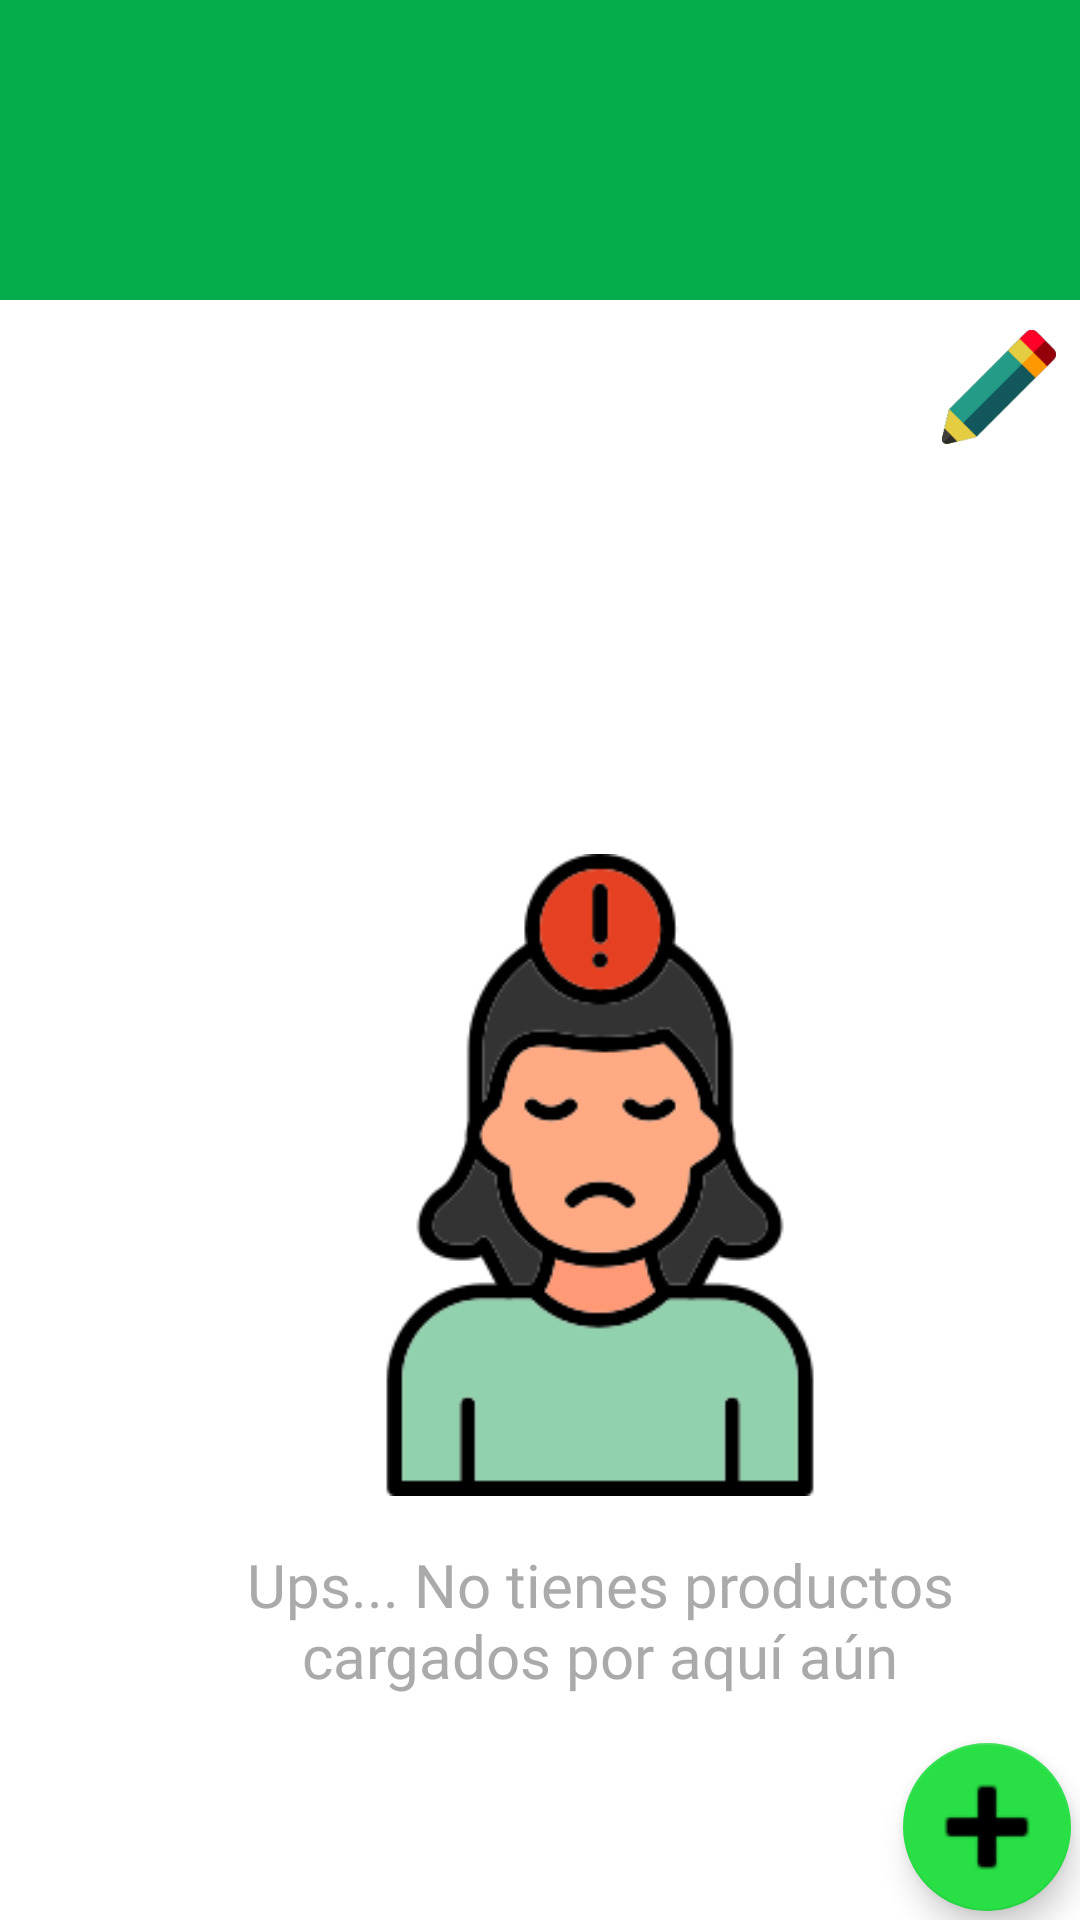

Screen size 1080px×1920px. Icon name, then its box in pixels as (x1,y1,x2,y2):
Agregar: (903,1743,1071,1911)
editar: (942,330,1056,444)
